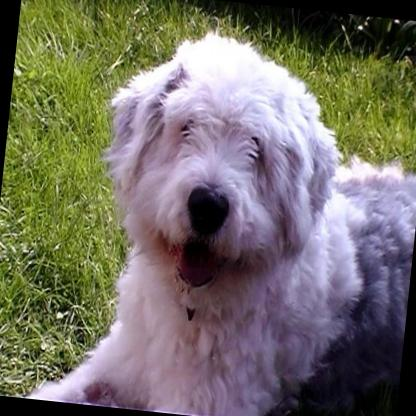Old_English_sheepdog: (31, 16, 416, 416)
